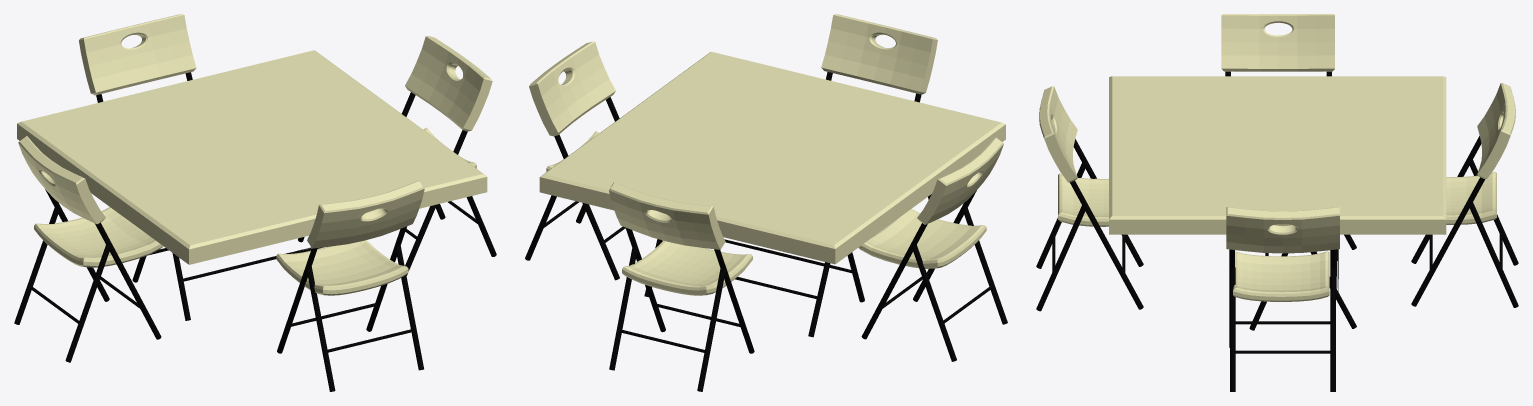
The model's file is Mesa Simple Vacia.fbx.
3 views of the same model, side by side, from view 1: azimuth 30°, elevation 25°; view 2: azimuth 150°, elevation 25°; view 3: azimuth 270°, elevation 25° (orthographic). The views are drawn at different scales.
Parts seen in each view (by area): view 1: Cube.002; view 2: Cube.002; view 3: Cube.002.
Boxes of the visible parts, x1=… form: Cube.002: x1=14, y1=14, x2=496, y2=391; Cube.002: x1=525, y1=14, x2=1007, y2=391; Cube.002: x1=1036, y1=14, x2=1518, y2=391.
Bounding box in the file's own units: 576 × 234 × 568.
